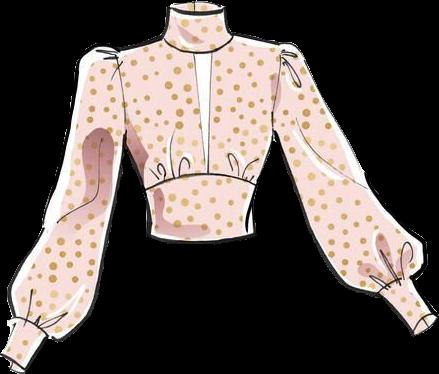Bodice: (116, 1, 280, 240)
Neckline: (191, 54, 213, 174), (144, 172, 257, 192), (160, 34, 236, 56), (169, 4, 228, 15)
Sleeve: (272, 41, 437, 336), (0, 47, 122, 372)
Sleeveline: (11, 313, 52, 340), (114, 48, 125, 148), (270, 41, 282, 132), (375, 276, 412, 297)
Waistline: (148, 232, 257, 244)
